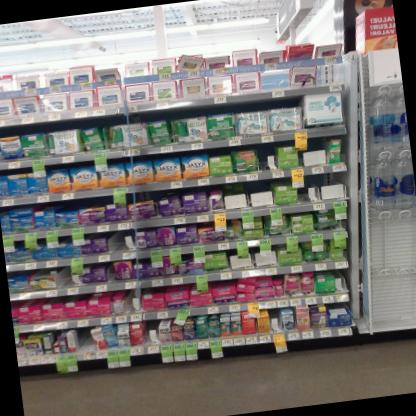empty_space: (297, 138, 326, 168), (317, 171, 344, 200), (255, 141, 278, 171), (108, 228, 136, 252), (247, 180, 271, 207), (295, 175, 316, 202), (74, 324, 92, 352), (143, 319, 161, 344), (266, 309, 283, 334), (125, 290, 140, 313)
